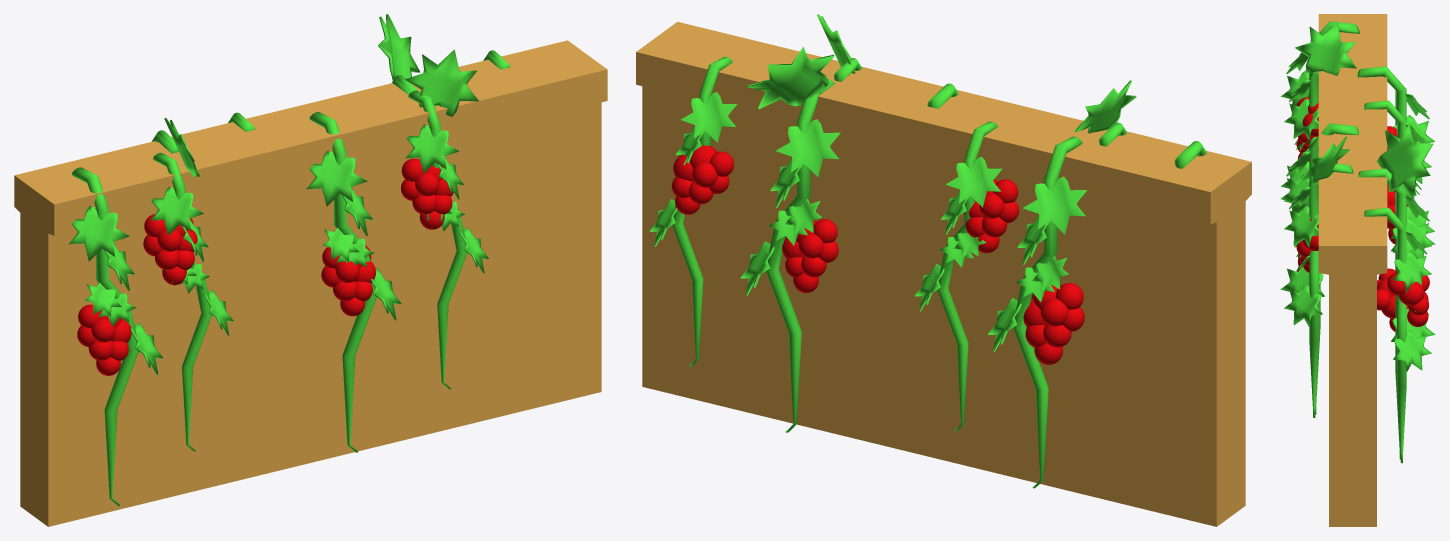
Rendered from grapewall_high.fbx.
3 views of the same model, side by side, from view 1: azimuth 30°, elevation 25°; view 2: azimuth 150°, elevation 25°; view 3: azimuth 270°, elevation 25° (orthographic). The views are drawn at different scales.
Visible parts, largest first — view 1: grapewall_high, grapeleaf_high, grape_high; view 2: grapewall_high, grapeleaf_high, grape_high; view 3: grapewall_high, grapeleaf_high, grape_high.
Boxes of the visible parts, x1,y1,x2,y2 form: grapewall_high: (14,40,607,526); grapeleaf_high: (69,14,510,506); grape_high: (77,158,453,375); grapewall_high: (636,21,1251,526); grapeleaf_high: (650,14,1206,488); grape_high: (671,145,1084,364); grapewall_high: (1318,14,1387,526); grapeleaf_high: (1280,21,1435,463); grape_high: (1296,94,1429,331).
Size of the model in its own units: 702 by 466 by 198.
